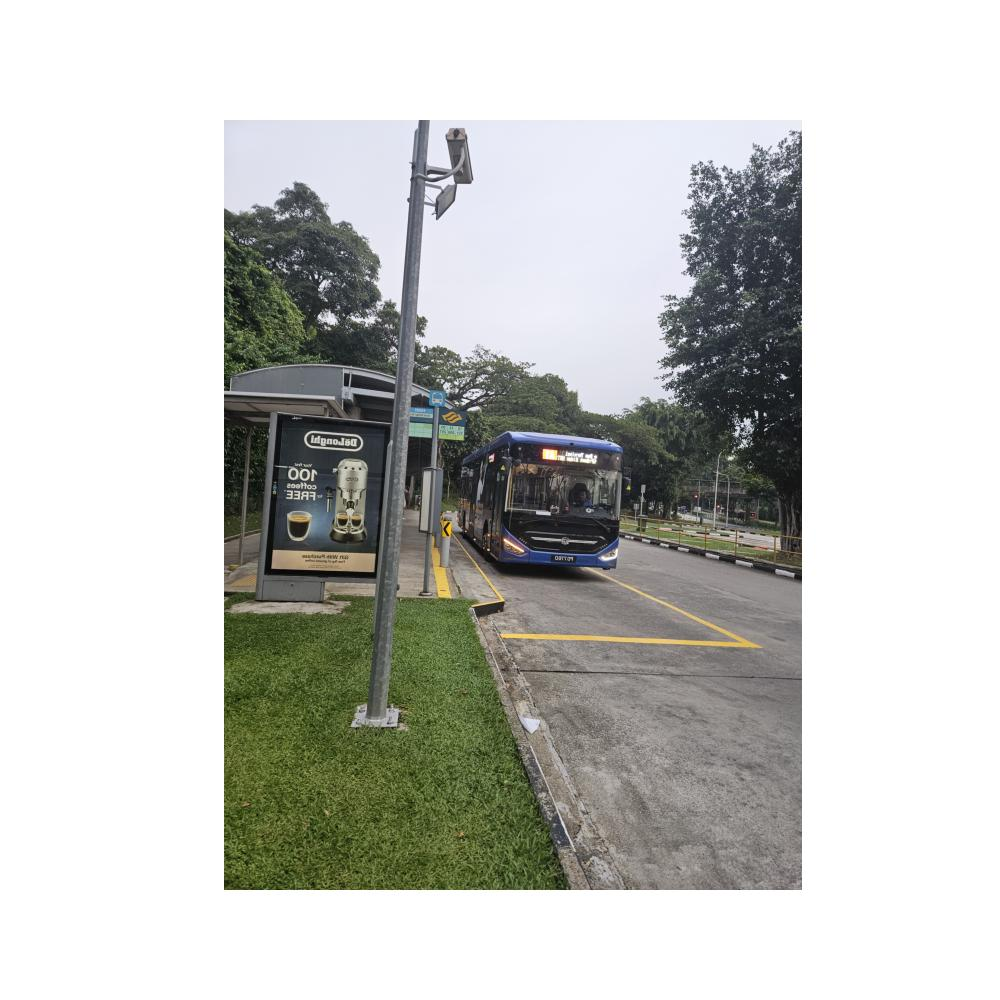bus: (460, 428, 626, 578)
